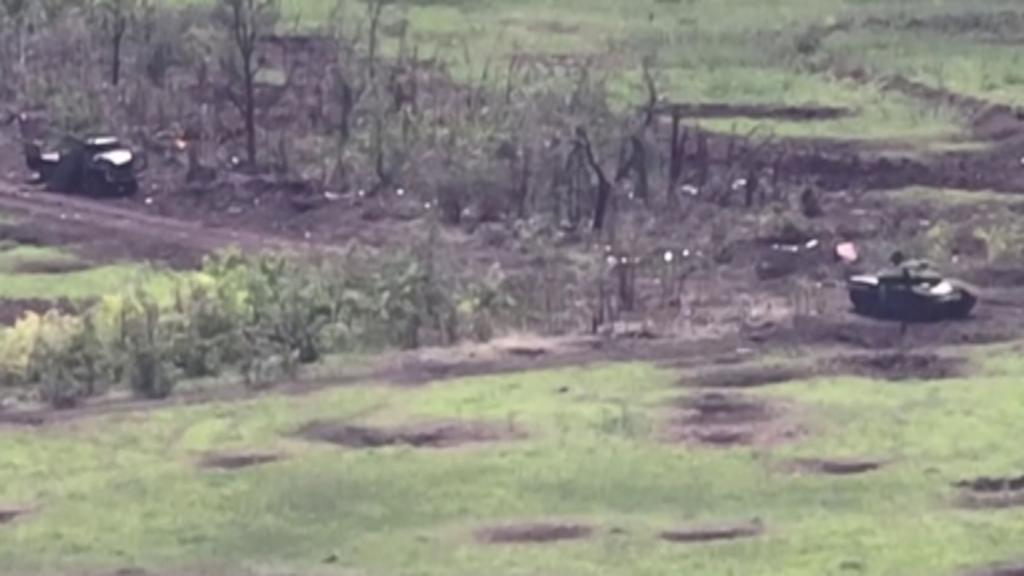TANK: (846, 255, 980, 321)
TRUCK: (26, 124, 138, 195)
